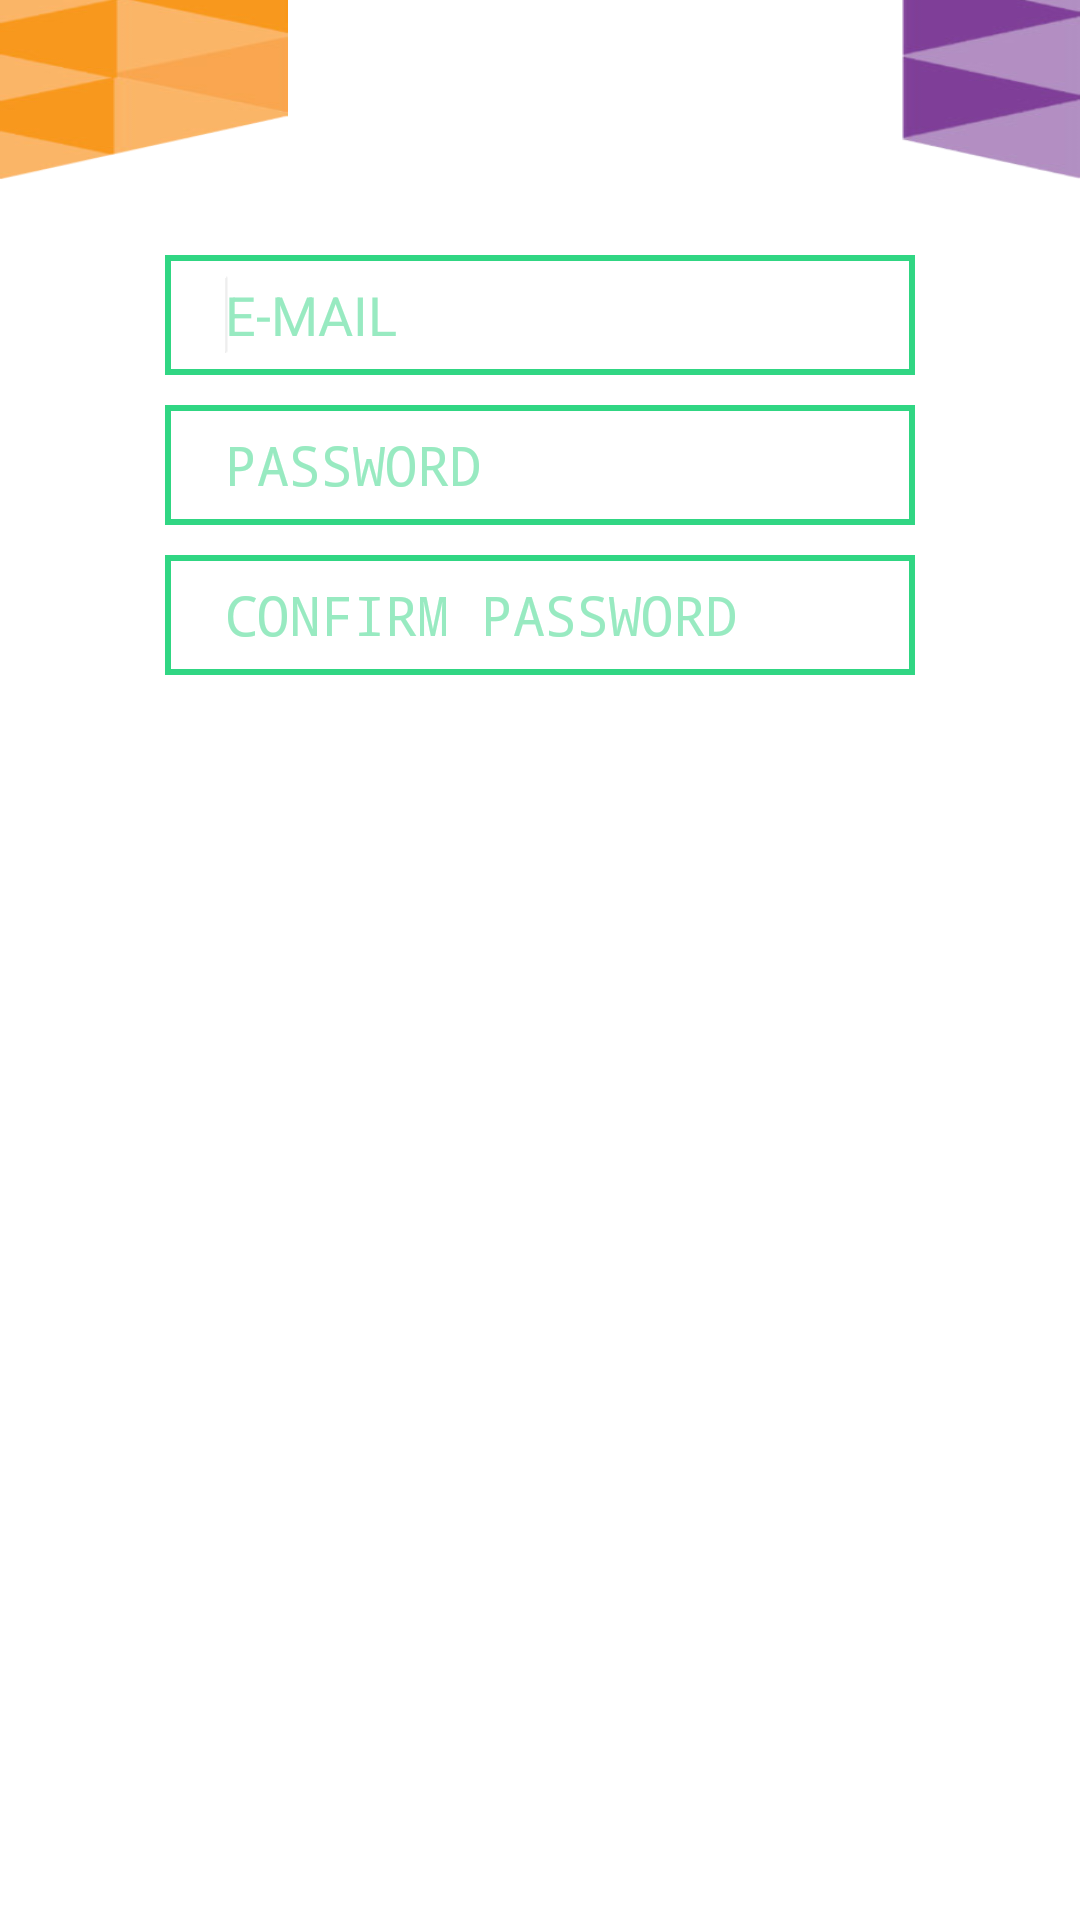

Where to tap for icons on this 1080×1920 app screen, as (x=x, y=y):
left top: (x=144, y=89)
right top: (x=991, y=89)
